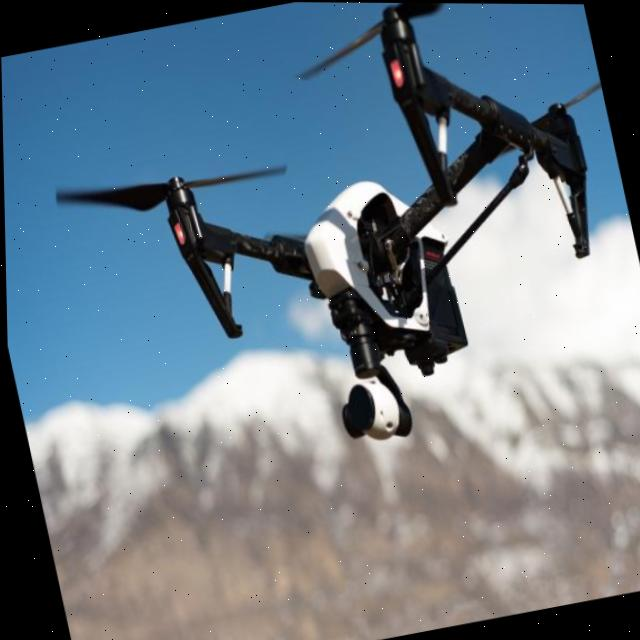drones: (16, 0, 640, 522)
